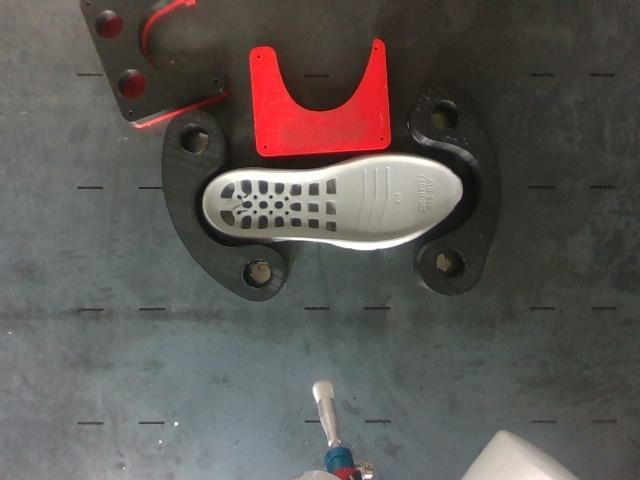shoes: (204, 156, 462, 243)
